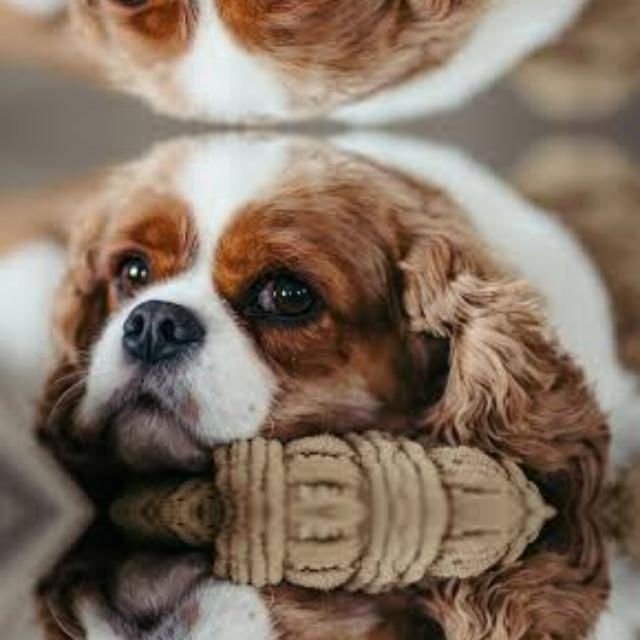dog: (54, 142, 591, 468), (53, 0, 590, 114), (53, 555, 590, 640)
